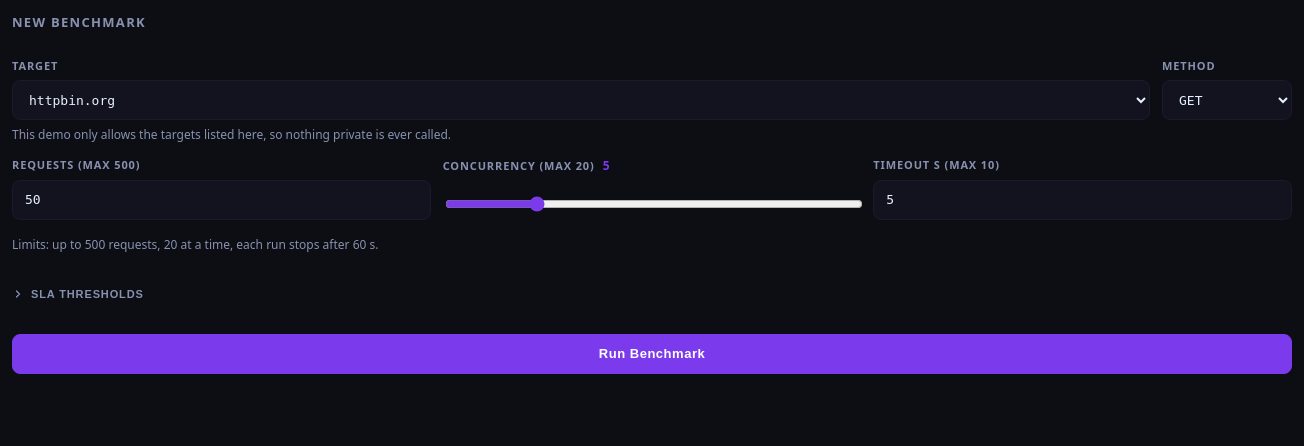
Scenario: BenchmarkForm › shows a friendly retry message on 429
Click the button "Run Benchmark" at (652, 354), box 12,334 -> 1292,374
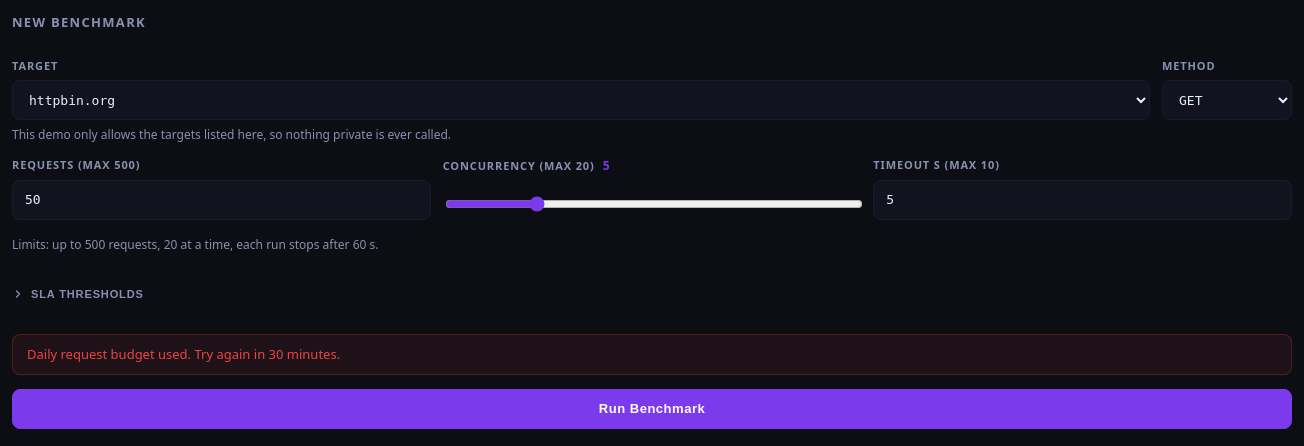
Check: the message shows "Try again in 30 minutes.", box 27,345 -> 340,363
